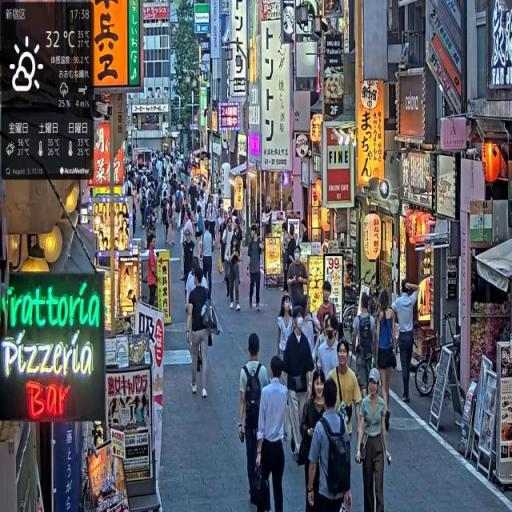person: (306, 375, 354, 512), (256, 353, 295, 512), (237, 331, 271, 509), (357, 369, 392, 512), (283, 311, 315, 458), (296, 369, 329, 511), (187, 265, 220, 401), (391, 277, 421, 408), (374, 288, 400, 433), (352, 292, 377, 405), (316, 315, 345, 386), (277, 293, 296, 391), (226, 219, 244, 313), (248, 223, 265, 313), (288, 251, 309, 320), (201, 220, 215, 303), (147, 237, 159, 309)
